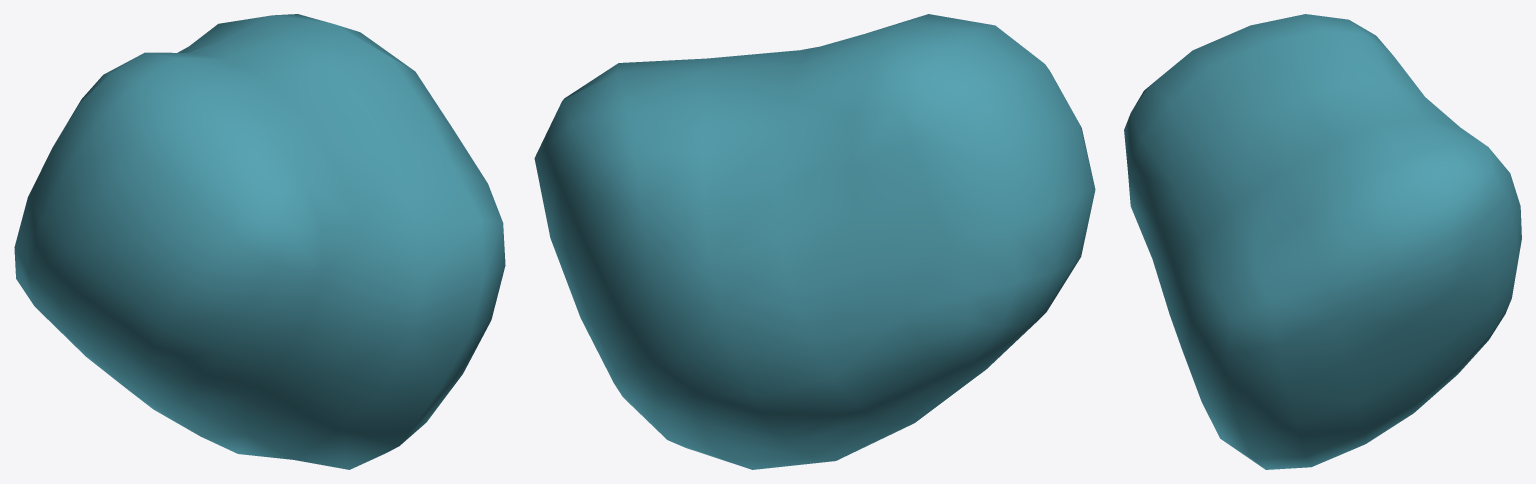
The model's file is VIS_Alpha_Surface_034.dae.
3 views of the same model, side by side, from view 1: azimuth 30°, elevation 25°; view 2: azimuth 150°, elevation 25°; view 3: azimuth 270°, elevation 25° (orthographic). The views are drawn at different scales.
Parts seen in each view (by area): view 1: VIS_Alpha_Surface_034; view 2: VIS_Alpha_Surface_034; view 3: VIS_Alpha_Surface_034.
Boxes of the visible parts, <box> form: VIS_Alpha_Surface_034: <box>14,14,505,469</box>; VIS_Alpha_Surface_034: <box>534,14,1095,469</box>; VIS_Alpha_Surface_034: <box>1124,14,1521,469</box>.
Bounding box in the file's own units: 4.73 × 4.26 × 4.37.
